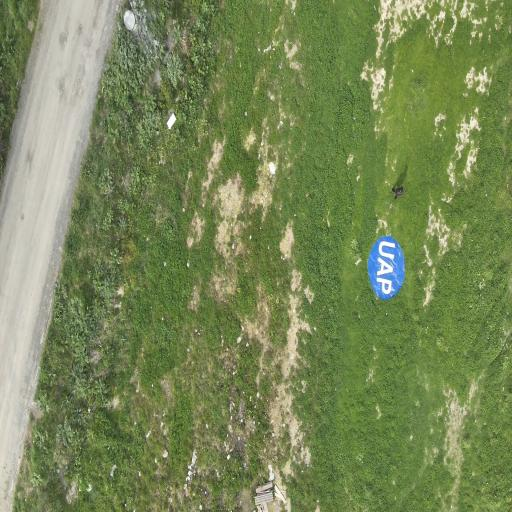UAP: (368, 237, 404, 299)
person: (392, 186, 403, 199)
